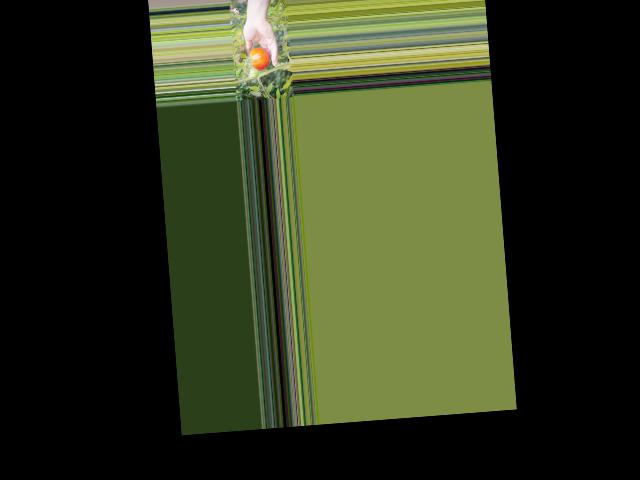tomato: (248, 46, 270, 71)
